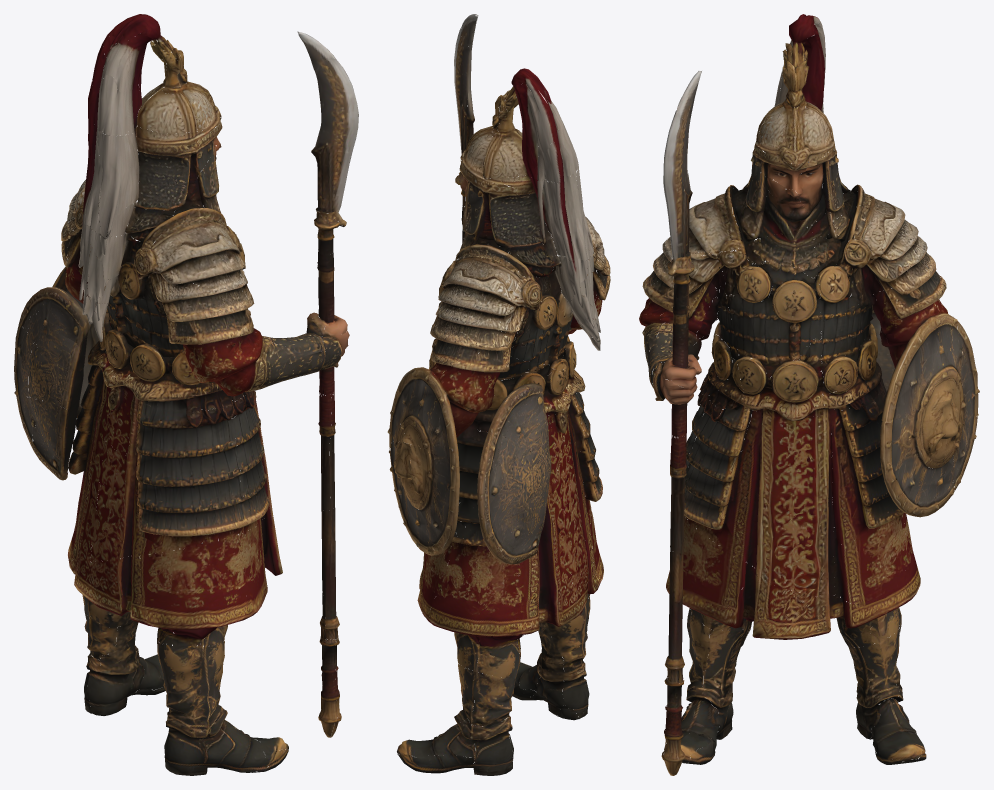
The model's file is vanguard_T10-tripo.glb.
3 views of the same model, side by side, from view 1: azimuth 30°, elevation 25°; view 2: azimuth 150°, elevation 25°; view 3: azimuth 270°, elevation 25° (orthographic). The views are drawn at different scales.
Visible parts, largest first — view 1: tripo_node_5fb09ad0-0556-4d7d-86de-952961ec7549; view 2: tripo_node_5fb09ad0-0556-4d7d-86de-952961ec7549; view 3: tripo_node_5fb09ad0-0556-4d7d-86de-952961ec7549.
Part boxes in pixels (x1,y1,x2,y2): tripo_node_5fb09ad0-0556-4d7d-86de-952961ec7549: [14, 14, 358, 775]; tripo_node_5fb09ad0-0556-4d7d-86de-952961ec7549: [387, 14, 610, 775]; tripo_node_5fb09ad0-0556-4d7d-86de-952961ec7549: [639, 14, 979, 775].
Size of the model in its own units: 0.3125 by 0.9996 by 0.4309.
Materials: 1 (1 with a texture image).
